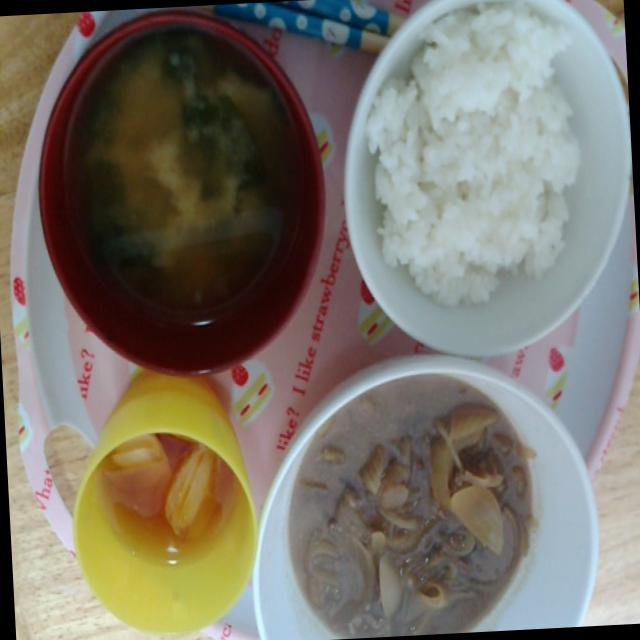Rice: (348, 5, 592, 306)
